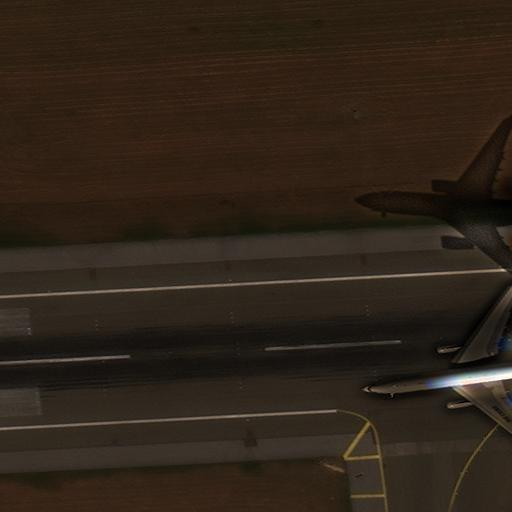Large Civil Transport: (363, 284, 512, 444)
